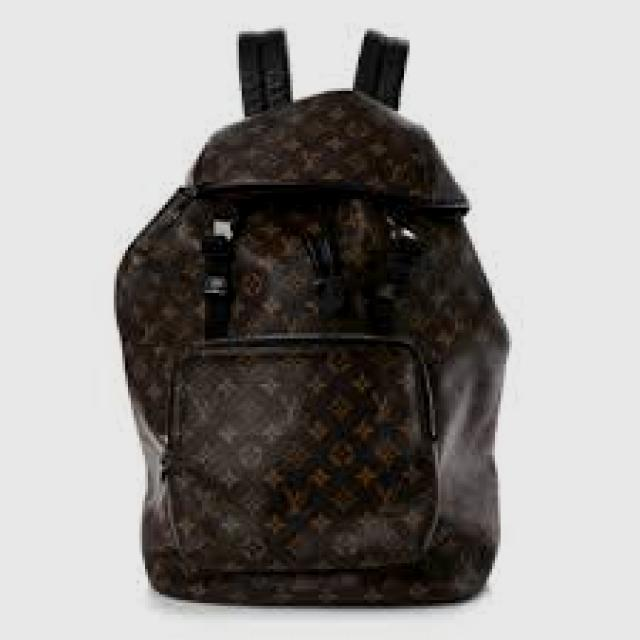backpack: (112, 27, 510, 607)
